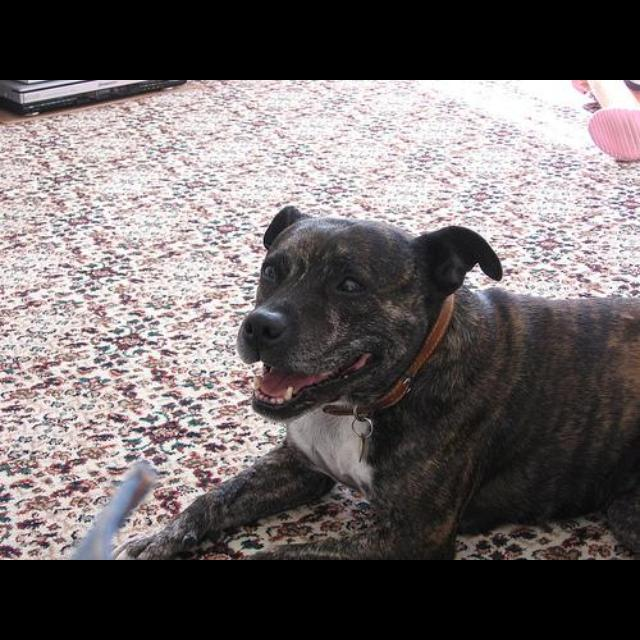staffford: (79, 205, 639, 560)
